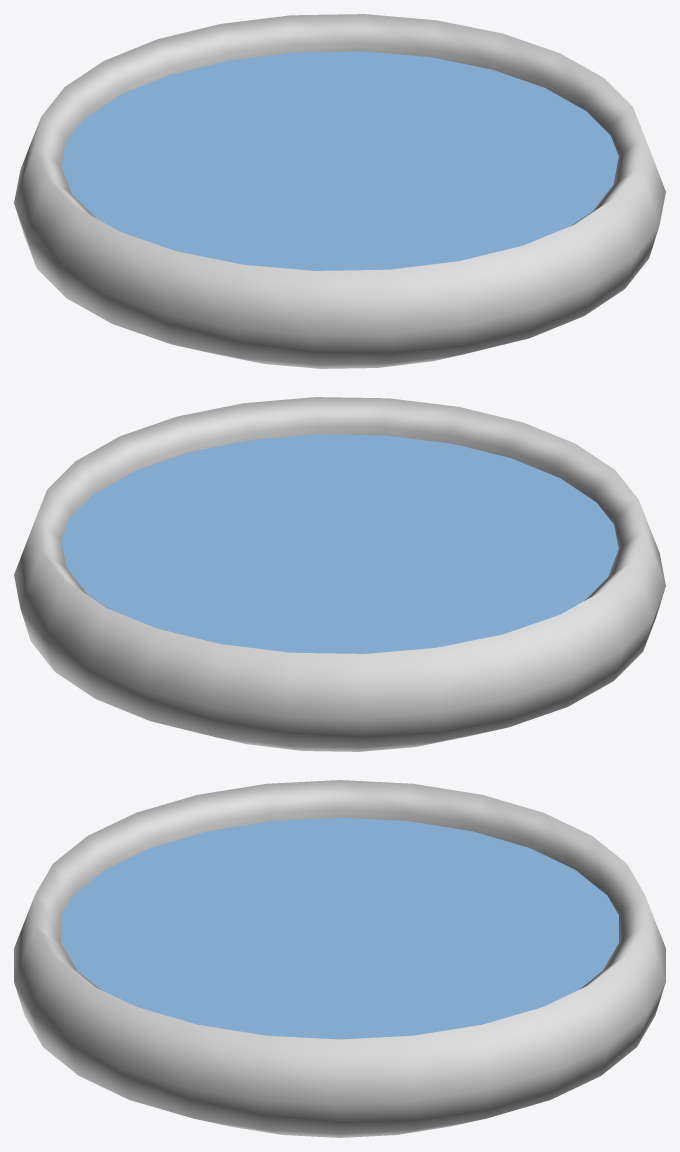
The model's file is Compass.glb.
3 renders of one model, top to bottom at view 1: azimuth 30°, elevation 25°; view 2: azimuth 150°, elevation 25°; view 3: azimuth 270°, elevation 25°, orthographic.
Parts seen in each view (by area): view 1: Face, Compass; view 2: Face, Compass; view 3: Face, Compass.
Boxes of the visible parts, box(x1,y1,x2,y2) form: Face: box(61, 51, 618, 270); Compass: box(14, 14, 665, 368); Face: box(61, 434, 618, 653); Compass: box(14, 397, 665, 751); Face: box(61, 817, 618, 1039); Compass: box(14, 780, 665, 1137).
Bounding box in the file's own units: 0.1872 × 0.0399 × 0.1859.
